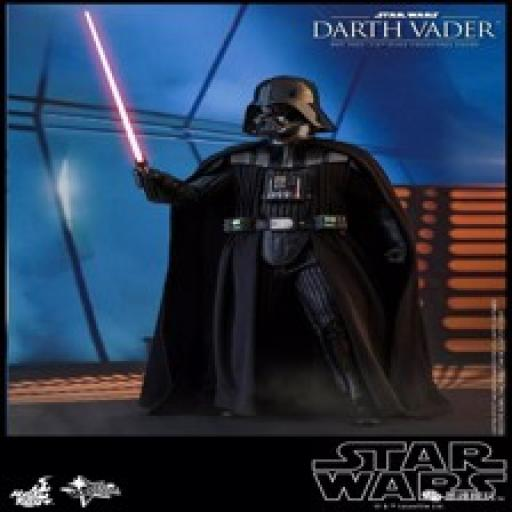human: (131, 78, 409, 426)
sith saber: (73, 7, 156, 204)
